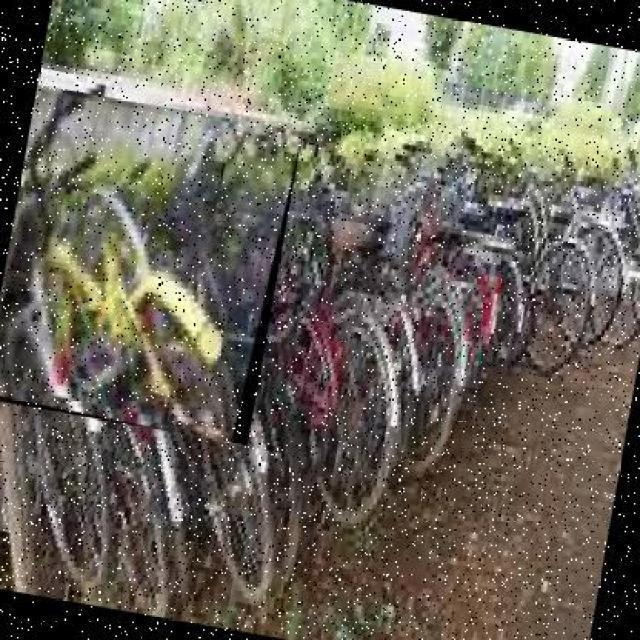bicycle: (1, 86, 304, 449)
